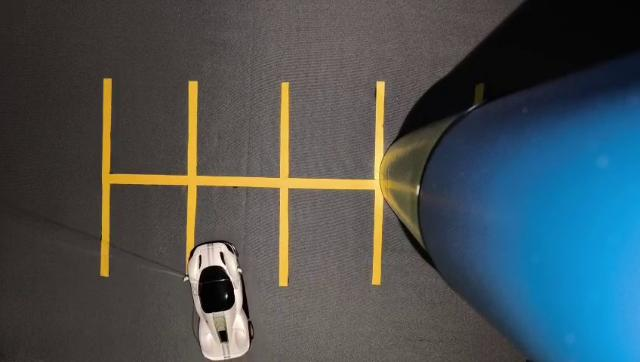toy_car: (180, 234, 265, 362)
